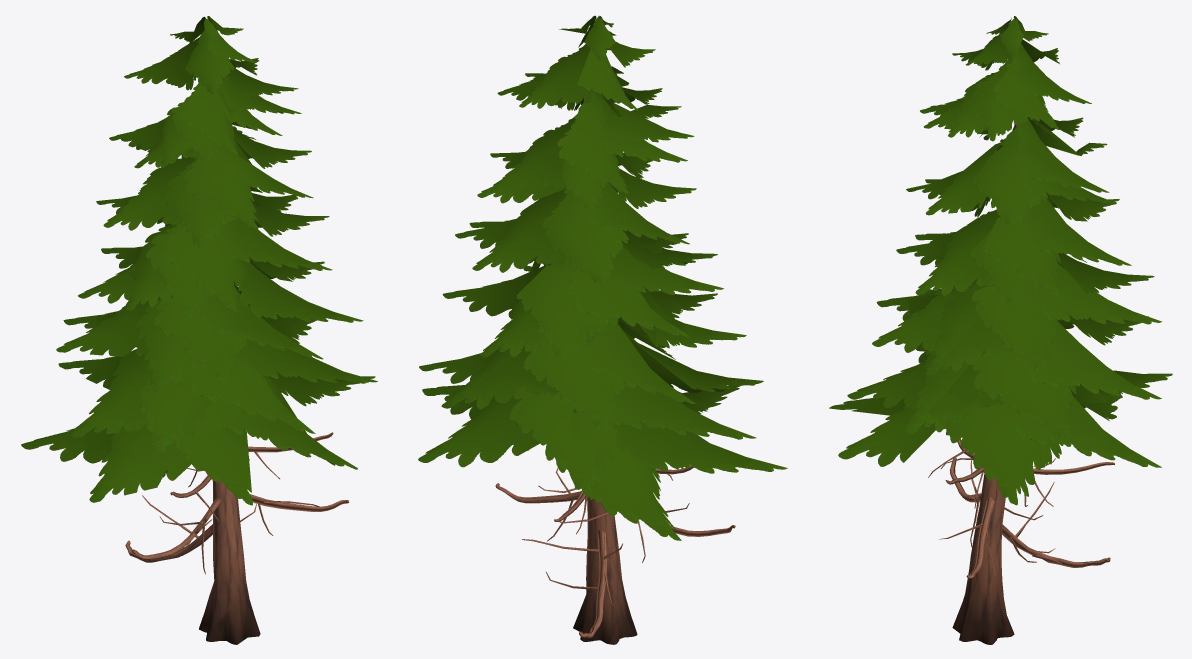
Rendered from pin-touffu.lod1.glb.
3 views of the same model, side by side, from view 1: azimuth 30°, elevation 25°; view 2: azimuth 150°, elevation 25°; view 3: azimuth 270°, elevation 25° (orthographic). The views are drawn at different scales.
Visible parts, largest first — view 1: Pine_4; view 2: Pine_4; view 3: Pine_4.
Boxes of the visible parts, left/top/right/bottom form: Pine_4: left=21, top=16, right=377, bottom=644; Pine_4: left=418, top=15, right=787, bottom=644; Pine_4: left=829, top=16, right=1172, bottom=644.
Bounding box in the file's own units: 5.8 × 10.24 × 5.37.
Materials: 2 (2 with a texture image).
